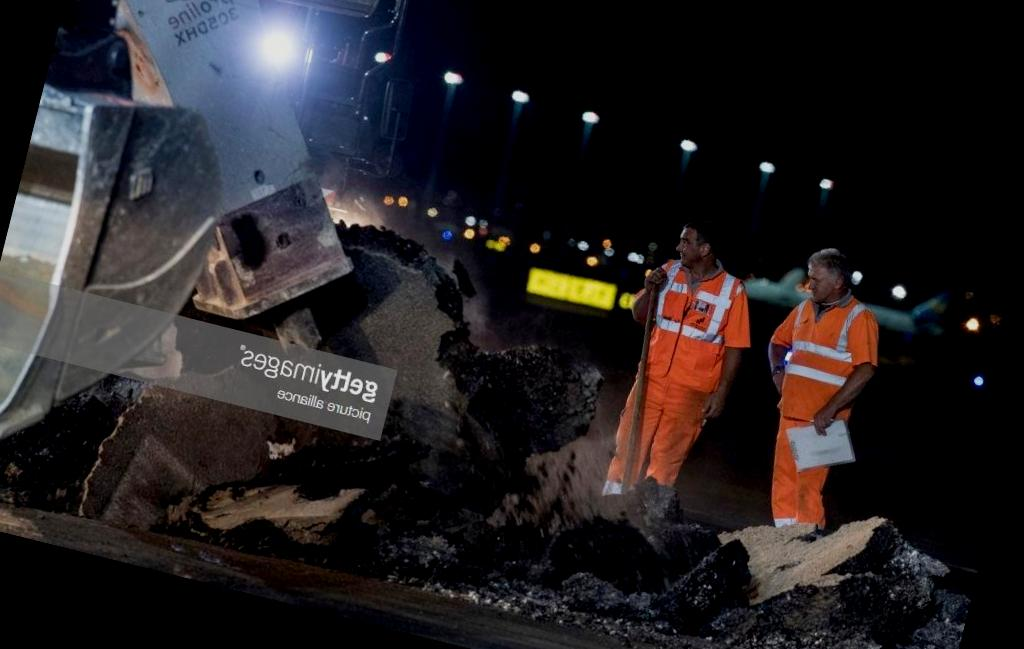person: (571, 196, 780, 538), (720, 231, 909, 553)
